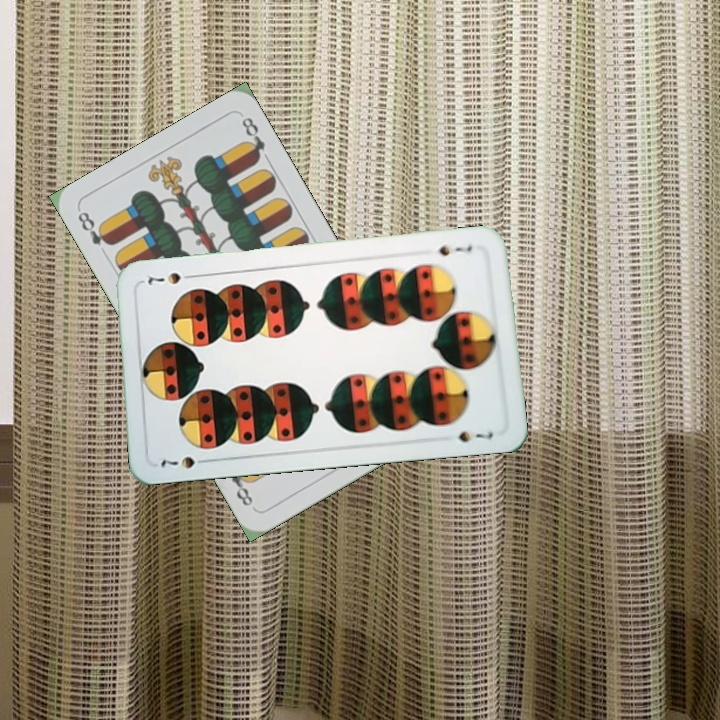E8: (73, 207, 116, 249)
S7: (157, 452, 213, 471), (430, 240, 475, 259)
